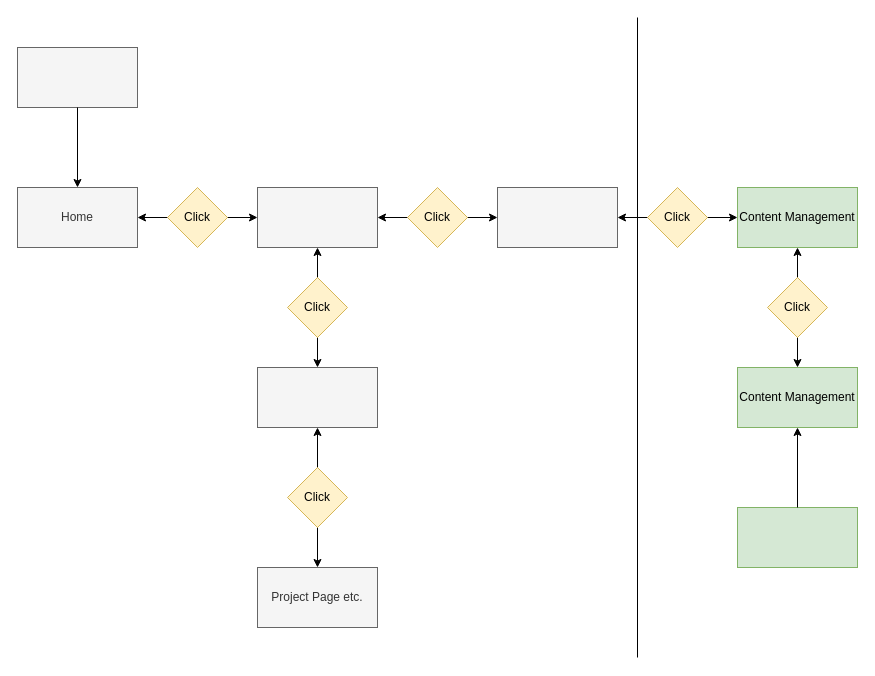
This 875x676 diagram has some shape labels left out. Here are the shapes that lost their labels. From the top down, the centre of each, then its label:
At point 77,77: "Guest User".
At point 317,217: "Portfolio".
At point 557,217: "Contact Form".
At point 317,397: "Project Page".
At point 797,537: "Admin".
